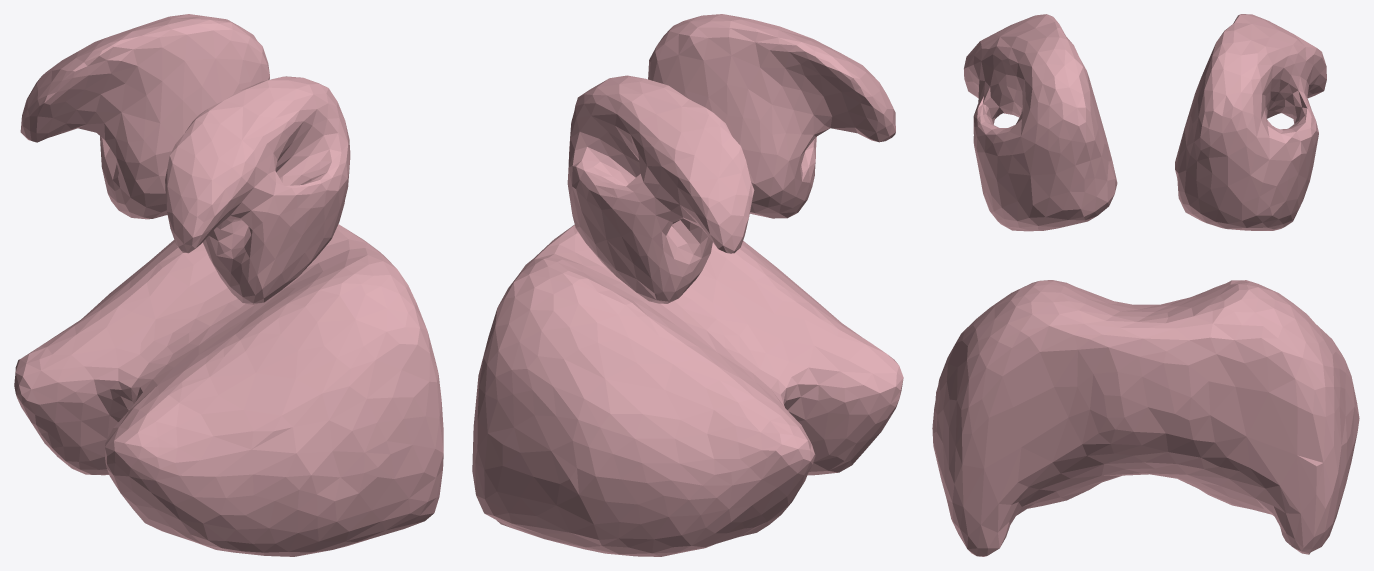
3 renders of one model, left to right at view 1: azimuth 30°, elevation 25°; view 2: azimuth 150°, elevation 25°; view 3: azimuth 270°, elevation 25°, orthographic. The views are drawn at different scales.
Parts seen in each view (by area): view 1: 444.obj; view 2: 444.obj; view 3: 444.obj.
Part boxes in pixels (left/top/right/bottom): 444.obj: left=14, top=14, right=443, bottom=556; 444.obj: left=472, top=14, right=903, bottom=556; 444.obj: left=932, top=14, right=1359, bottom=556.
Size of the model in its own units: 1539 by 2091 by 1738.
